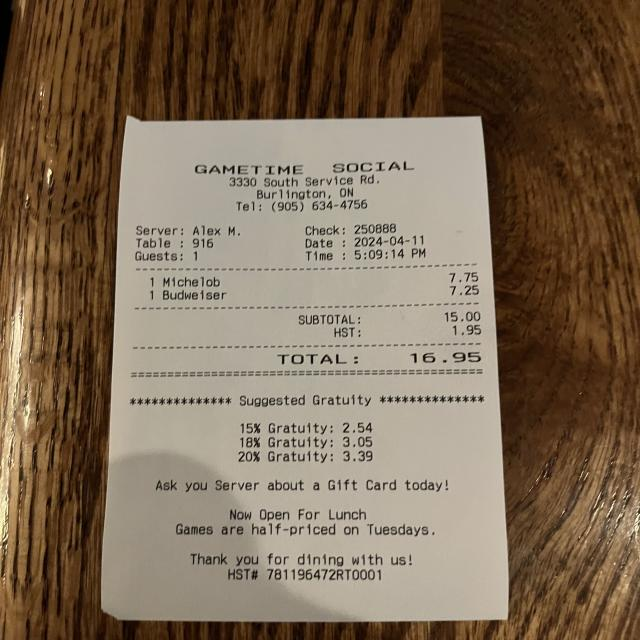item: (156, 269, 486, 291), (157, 281, 486, 302)
store_name: (185, 156, 422, 180)
total_amount: (270, 346, 488, 372)
transaction_date: (350, 232, 431, 251)
